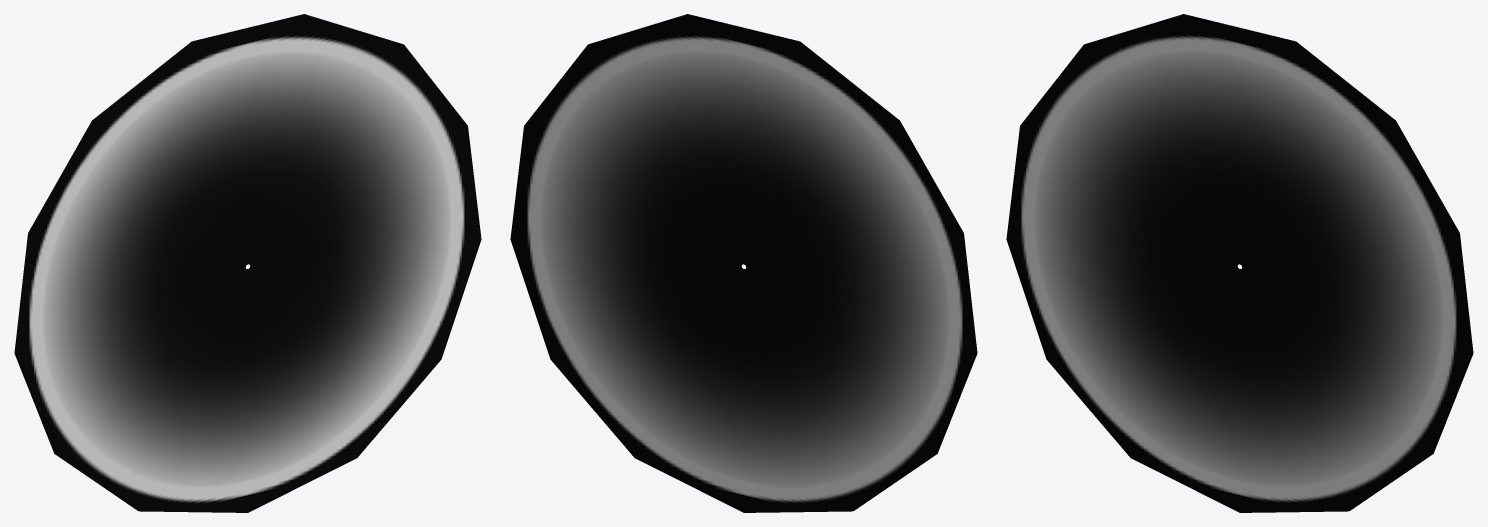
Rendered from SM_VFX_RadialPlane01.fbx.
The picture shows the model from 3 angles, left to right: view 1: azimuth 30°, elevation 25°; view 2: azimuth 150°, elevation 25°; view 3: azimuth 330°, elevation 25°; orthographic projection.
Visible parts, largest first — view 1: SM_VFX_RadialPlane01; view 2: SM_VFX_RadialPlane01; view 3: SM_VFX_RadialPlane01.
Part boxes in pixels (box(x1,y1,x2,y2)): SM_VFX_RadialPlane01: box(14, 14, 481, 512); SM_VFX_RadialPlane01: box(510, 14, 977, 512); SM_VFX_RadialPlane01: box(1006, 14, 1473, 512).
Bounding box in the file's own units: 96.3 × 95.6 × 1.5e-05.
